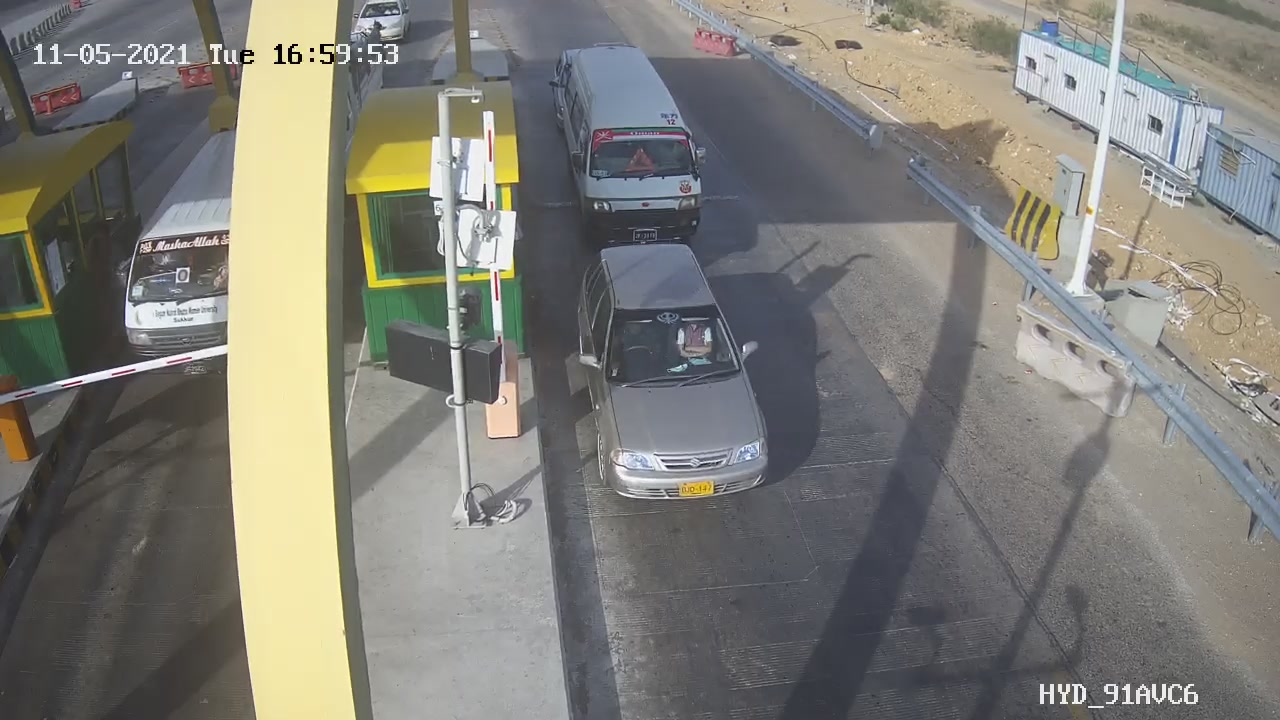F1: (555, 233, 792, 516)
F2: (538, 46, 711, 242)
